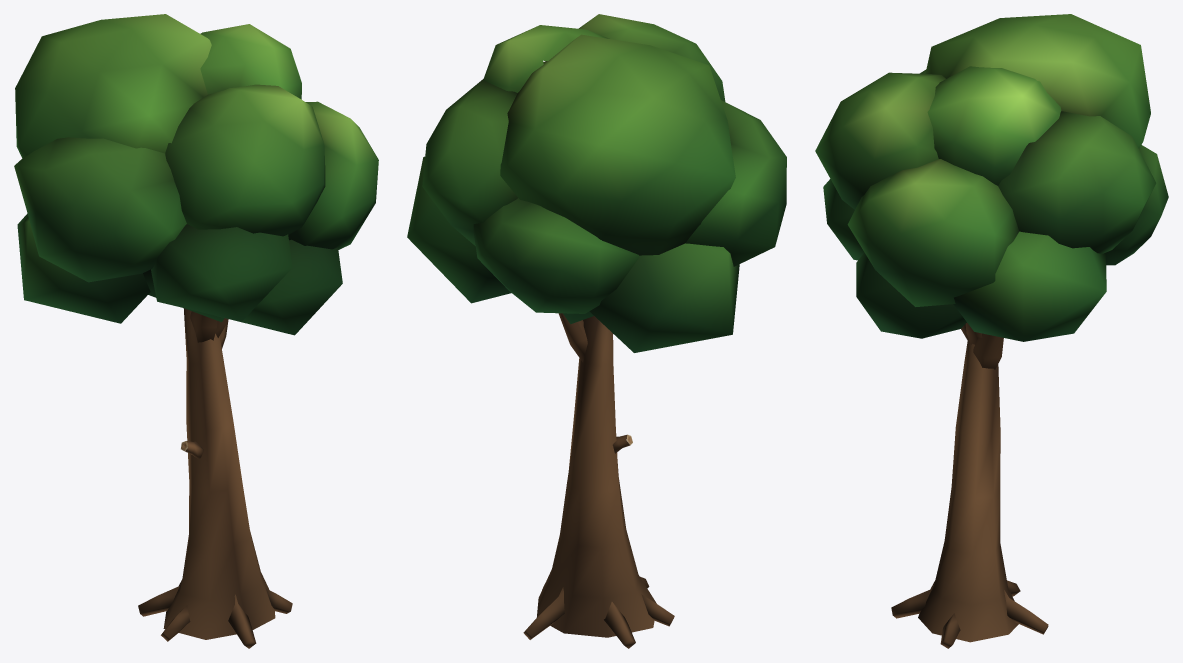
File: tree-standing-b-low.glb
3 views of the same model, side by side, from view 1: azimuth 30°, elevation 25°; view 2: azimuth 150°, elevation 25°; view 3: azimuth 270°, elevation 25° (orthographic). The views are drawn at different scales.
Parts seen in each view (by area): view 1: 1_leaves, 0_trunk; view 2: 1_leaves, 0_trunk; view 3: 1_leaves, 0_trunk.
Part boxes in pixels (bbox=[...]): 1_leaves: bbox=[14, 14, 378, 335]; 0_trunk: bbox=[138, 308, 292, 648]; 1_leaves: bbox=[407, 14, 786, 352]; 0_trunk: bbox=[523, 313, 674, 648]; 1_leaves: bbox=[815, 14, 1168, 341]; 0_trunk: bbox=[891, 323, 1048, 648].
Size of the model in its own units: 4.02 by 6.91 by 3.88.
